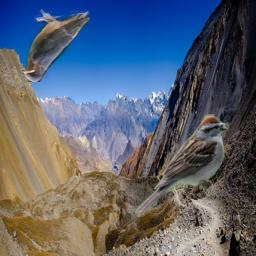Sparrow: (135, 114, 229, 217)
Swallow: (22, 9, 90, 82)
